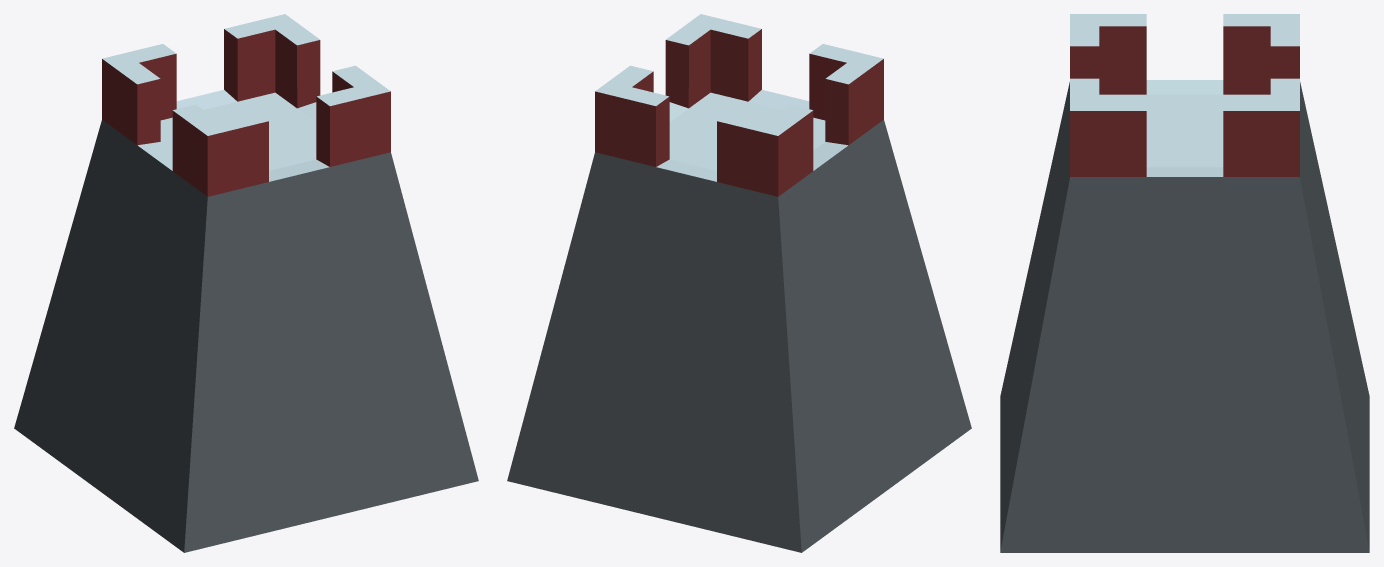
The model's file is SM_Bld_Pirate_Fort_01_Snow.fbx.
3 views of the same model, side by side, from view 1: azimuth 30°, elevation 25°; view 2: azimuth 150°, elevation 25°; view 3: azimuth 270°, elevation 25° (orthographic). The views are drawn at different scales.
Parts seen in each view (by area): view 1: SM_Bld_Pirate_Fort_01_Snow; view 2: SM_Bld_Pirate_Fort_01_Snow; view 3: SM_Bld_Pirate_Fort_01_Snow.
Boxes of the visible parts, x1,y1,x2,y2 form: SM_Bld_Pirate_Fort_01_Snow: (14, 14, 478, 552); SM_Bld_Pirate_Fort_01_Snow: (507, 14, 971, 552); SM_Bld_Pirate_Fort_01_Snow: (1000, 14, 1369, 552).
Size of the model in its own units: 116 by 143 by 116.
Materials: 1 (1 with a texture image).
